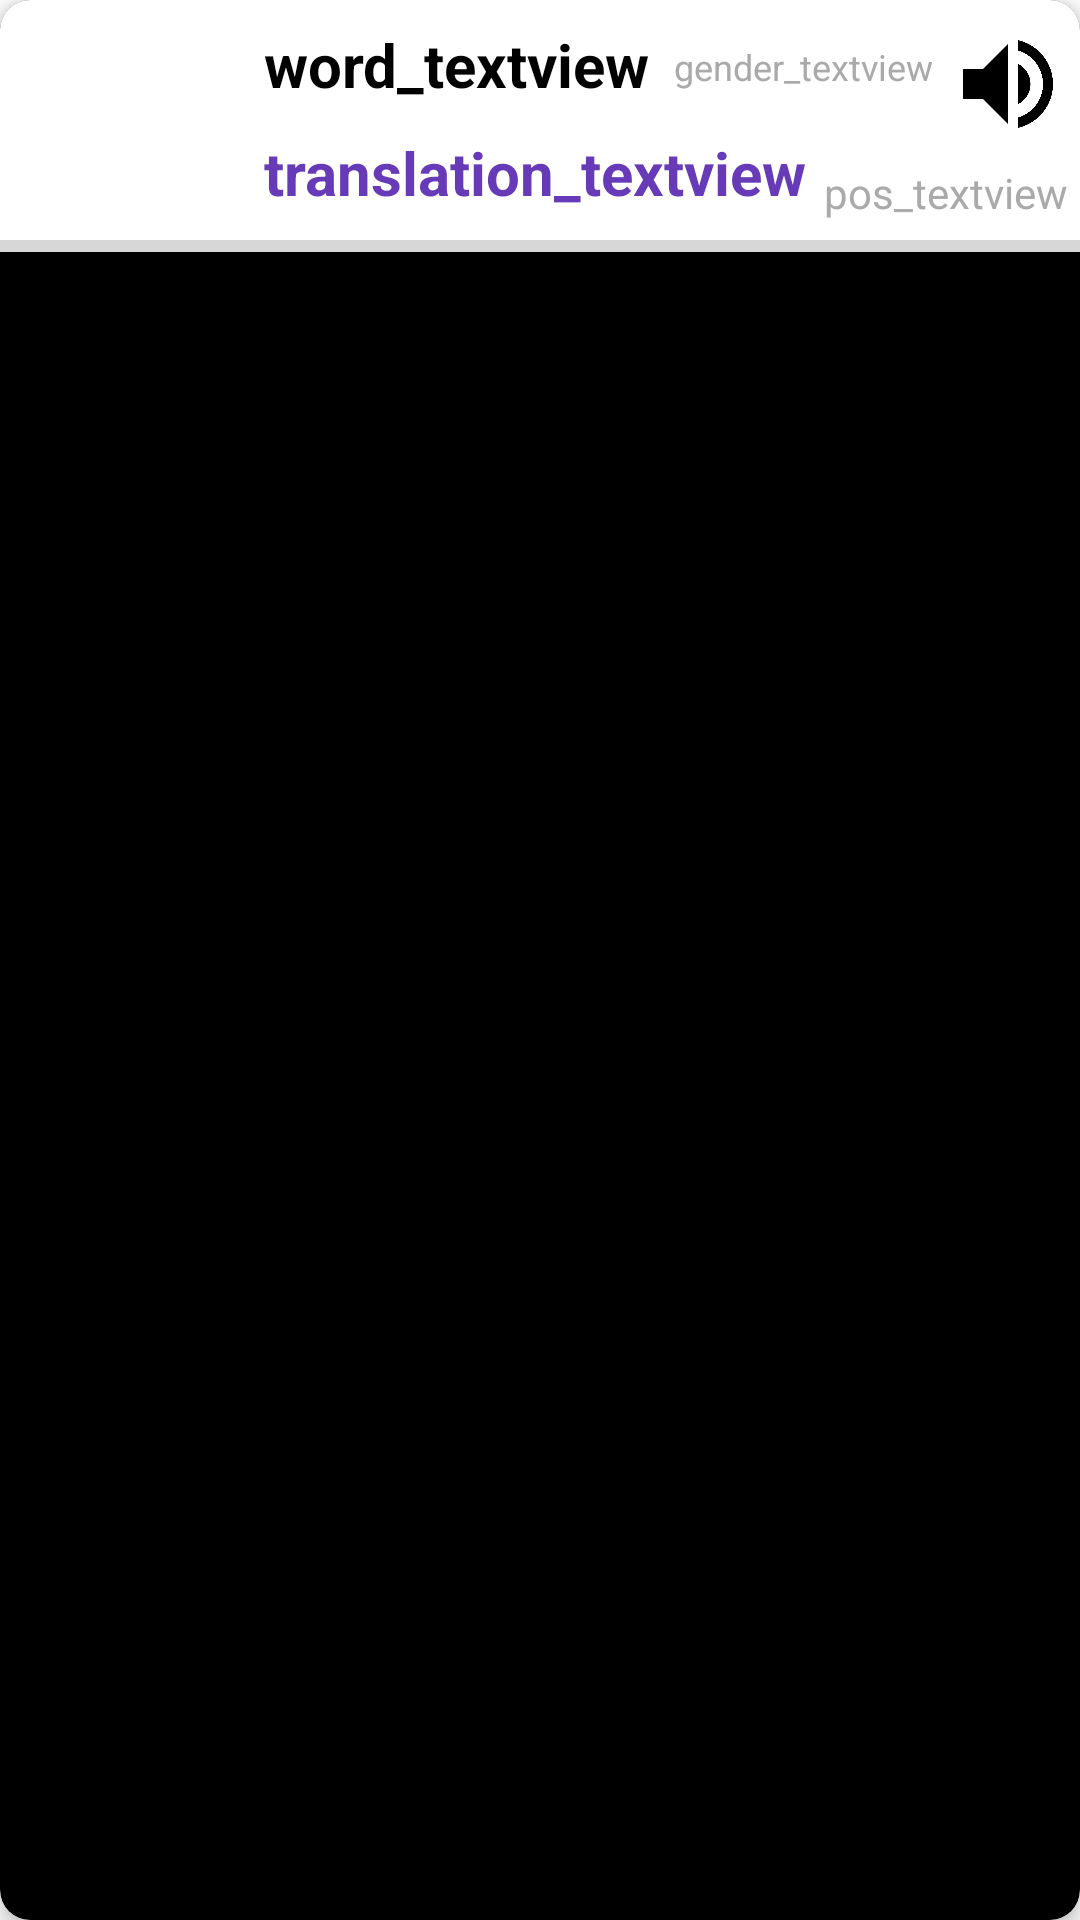

Where icons sit on this 1080x1920 app screen, as (x1, y1, x2, y2):
volume up: (963, 40, 1053, 128)
